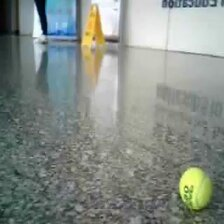tennis: (178, 166, 213, 211)
